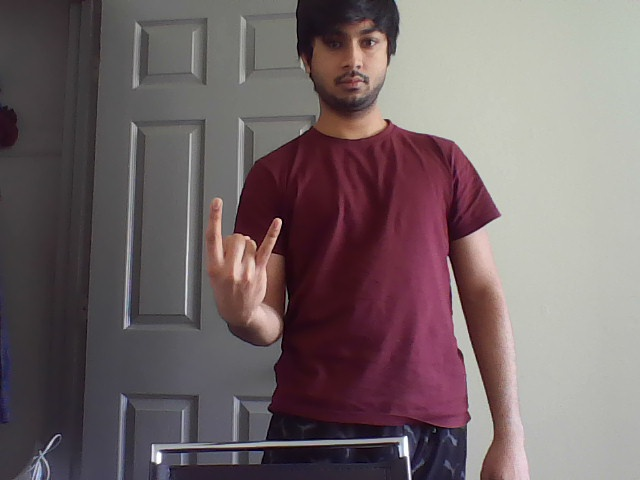help: (196, 193, 285, 274)
